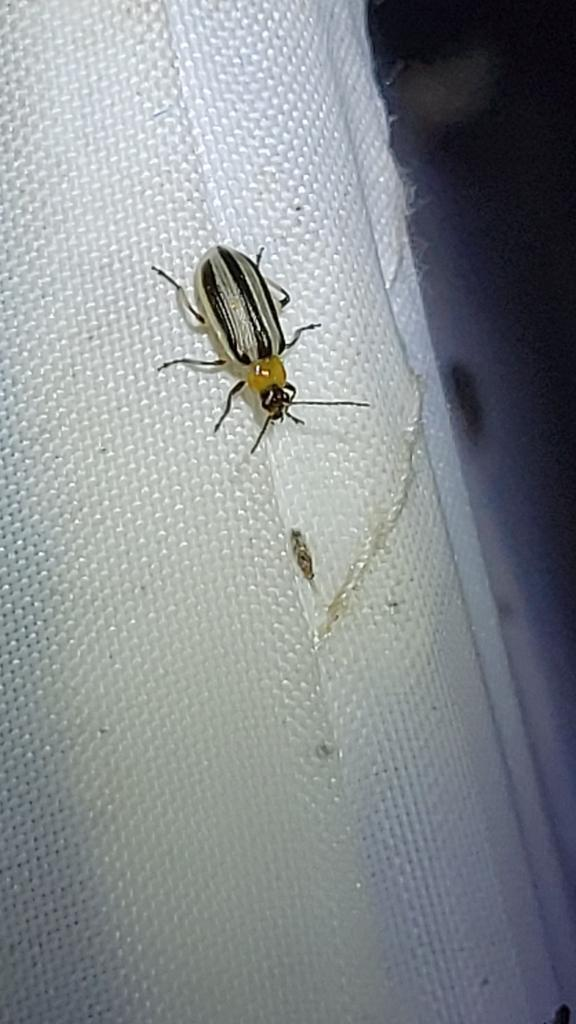potato_beetle: (91, 184, 397, 536)
